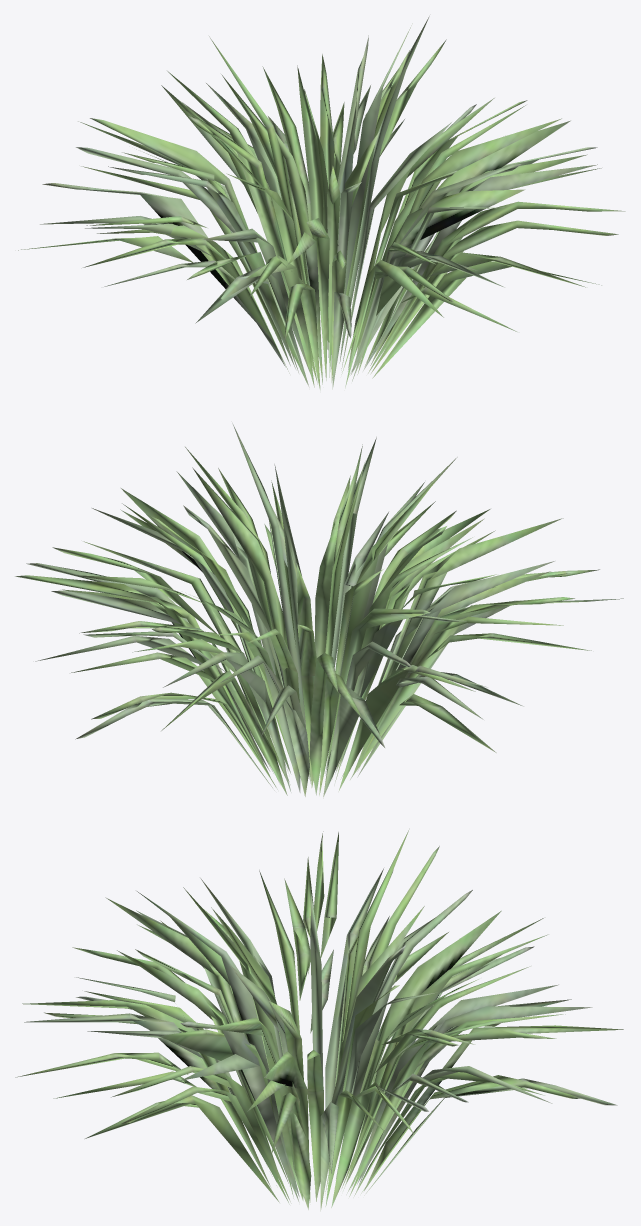
File: grass-clump.glb
The picture shows the model from 3 angles, top to bottom: view 1: azimuth 30°, elevation 25°; view 2: azimuth 150°, elevation 25°; view 3: azimuth 270°, elevation 25°; orthographic projection.
Parts seen in each view (by area): view 1: grass-clump_body; view 2: grass-clump_body; view 3: grass-clump_body.
Part boxes in pixels (bbox=[...]): grass-clump_body: bbox=[18, 16, 625, 390]; grass-clump_body: bbox=[15, 423, 623, 798]; grass-clump_body: bbox=[15, 828, 623, 1211].
Bounding box in the file's own units: 0.6573 × 0.3881 × 0.6354.
1 material, 1 textured.
